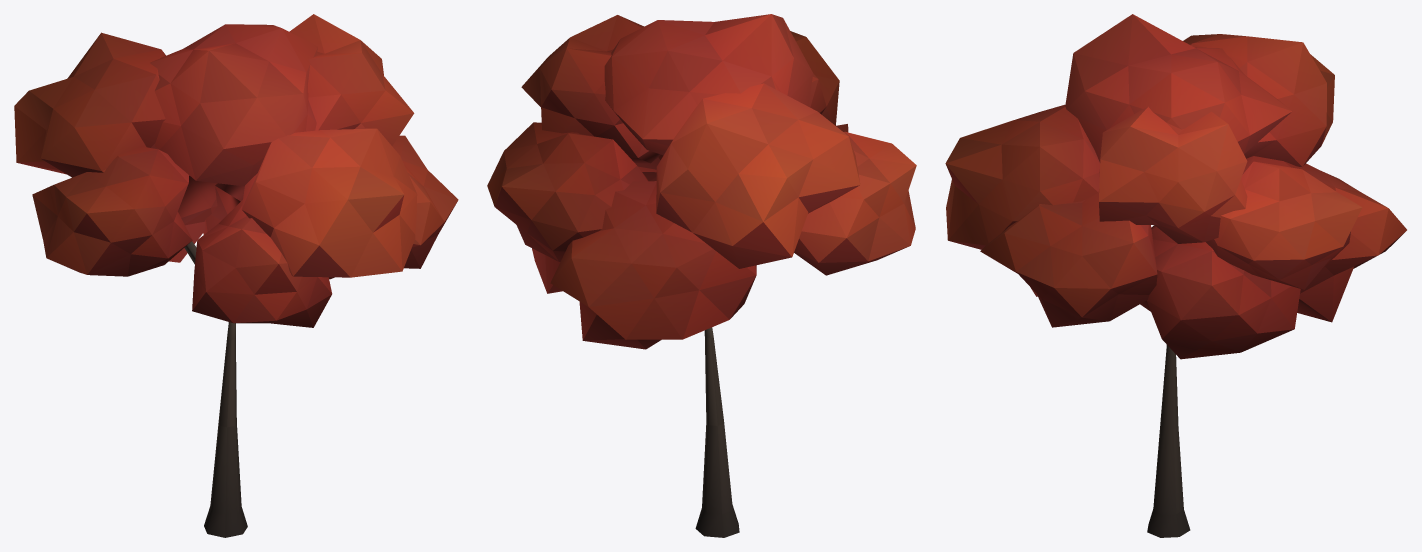
The model's file is maple_red.glb.
The picture shows the model from 3 angles, left to right: view 1: azimuth 30°, elevation 25°; view 2: azimuth 150°, elevation 25°; view 3: azimuth 270°, elevation 25°; orthographic projection. The views are drawn at different scales.
Parts seen in each view (by area): view 1: maple_red; view 2: maple_red; view 3: maple_red.
Boxes of the visible parts, x1=… form: maple_red: x1=14, y1=14, x2=458, y2=537; maple_red: x1=487, y1=14, x2=916, y2=537; maple_red: x1=945, y1=14, x2=1406, y2=537.
Size of the model in its own units: 6.43 by 8.48 by 7.12.
